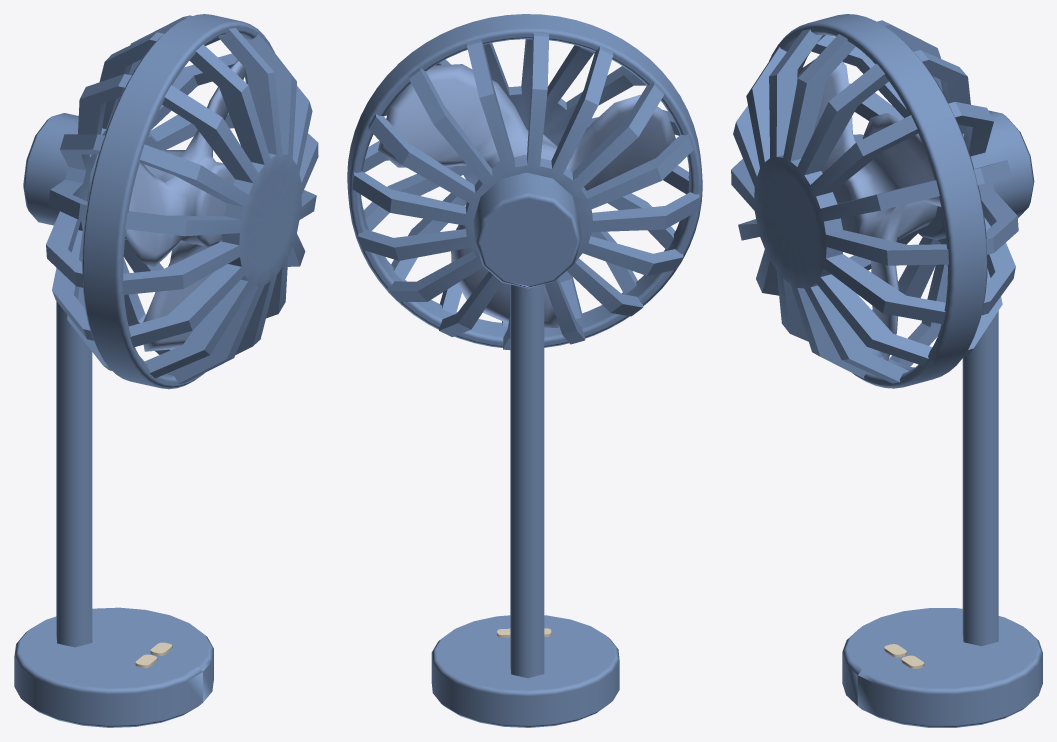
File: fan-transformed.glb
3 renders of one model, left to right at view 1: azimuth 30°, elevation 25°; view 2: azimuth 150°, elevation 25°; view 3: azimuth 270°, elevation 25°, orthographic. The views are drawn at different scales.
Visible parts, largest first — view 1: Cylinder 13, Cylinder 19, Cylinder 14, Cylinder 15, Cylinder 18, Cylinder 16, Cylinder 17; view 2: Cylinder 15, Cylinder 14, Cylinder 19, Cylinder 18, Cylinder 16, Cylinder 13, Cylinder 17; view 3: Cylinder 13, Cylinder 19, Cylinder 14, Cylinder 15, Cylinder 18, Cylinder 16, Cylinder 17.
Part boxes in pixels (x1,y1,x2,y2): Cylinder 13: [122, 28, 318, 383]; Cylinder 19: [14, 607, 213, 727]; Cylinder 14: [82, 14, 274, 389]; Cylinder 15: [46, 15, 237, 370]; Cylinder 18: [56, 301, 92, 647]; Cylinder 16: [125, 60, 246, 351]; Cylinder 17: [23, 113, 160, 239]; Cylinder 15: [352, 32, 699, 349]; Cylinder 14: [347, 14, 702, 347]; Cylinder 19: [431, 615, 619, 727]; Cylinder 18: [510, 284, 544, 678]; Cylinder 16: [378, 64, 675, 327]; Cylinder 13: [362, 39, 688, 327]; Cylinder 17: [473, 154, 581, 288]; Cylinder 13: [731, 29, 948, 383]; Cylinder 19: [842, 608, 1042, 727]; Cylinder 14: [769, 14, 987, 388]; Cylinder 15: [811, 20, 1018, 366]; Cylinder 18: [962, 311, 998, 646]; Cylinder 16: [797, 59, 941, 360]; Cylinder 17: [916, 110, 1034, 240].
Size of the model in its own units: 0.6712 by 1.47 by 0.6158.
